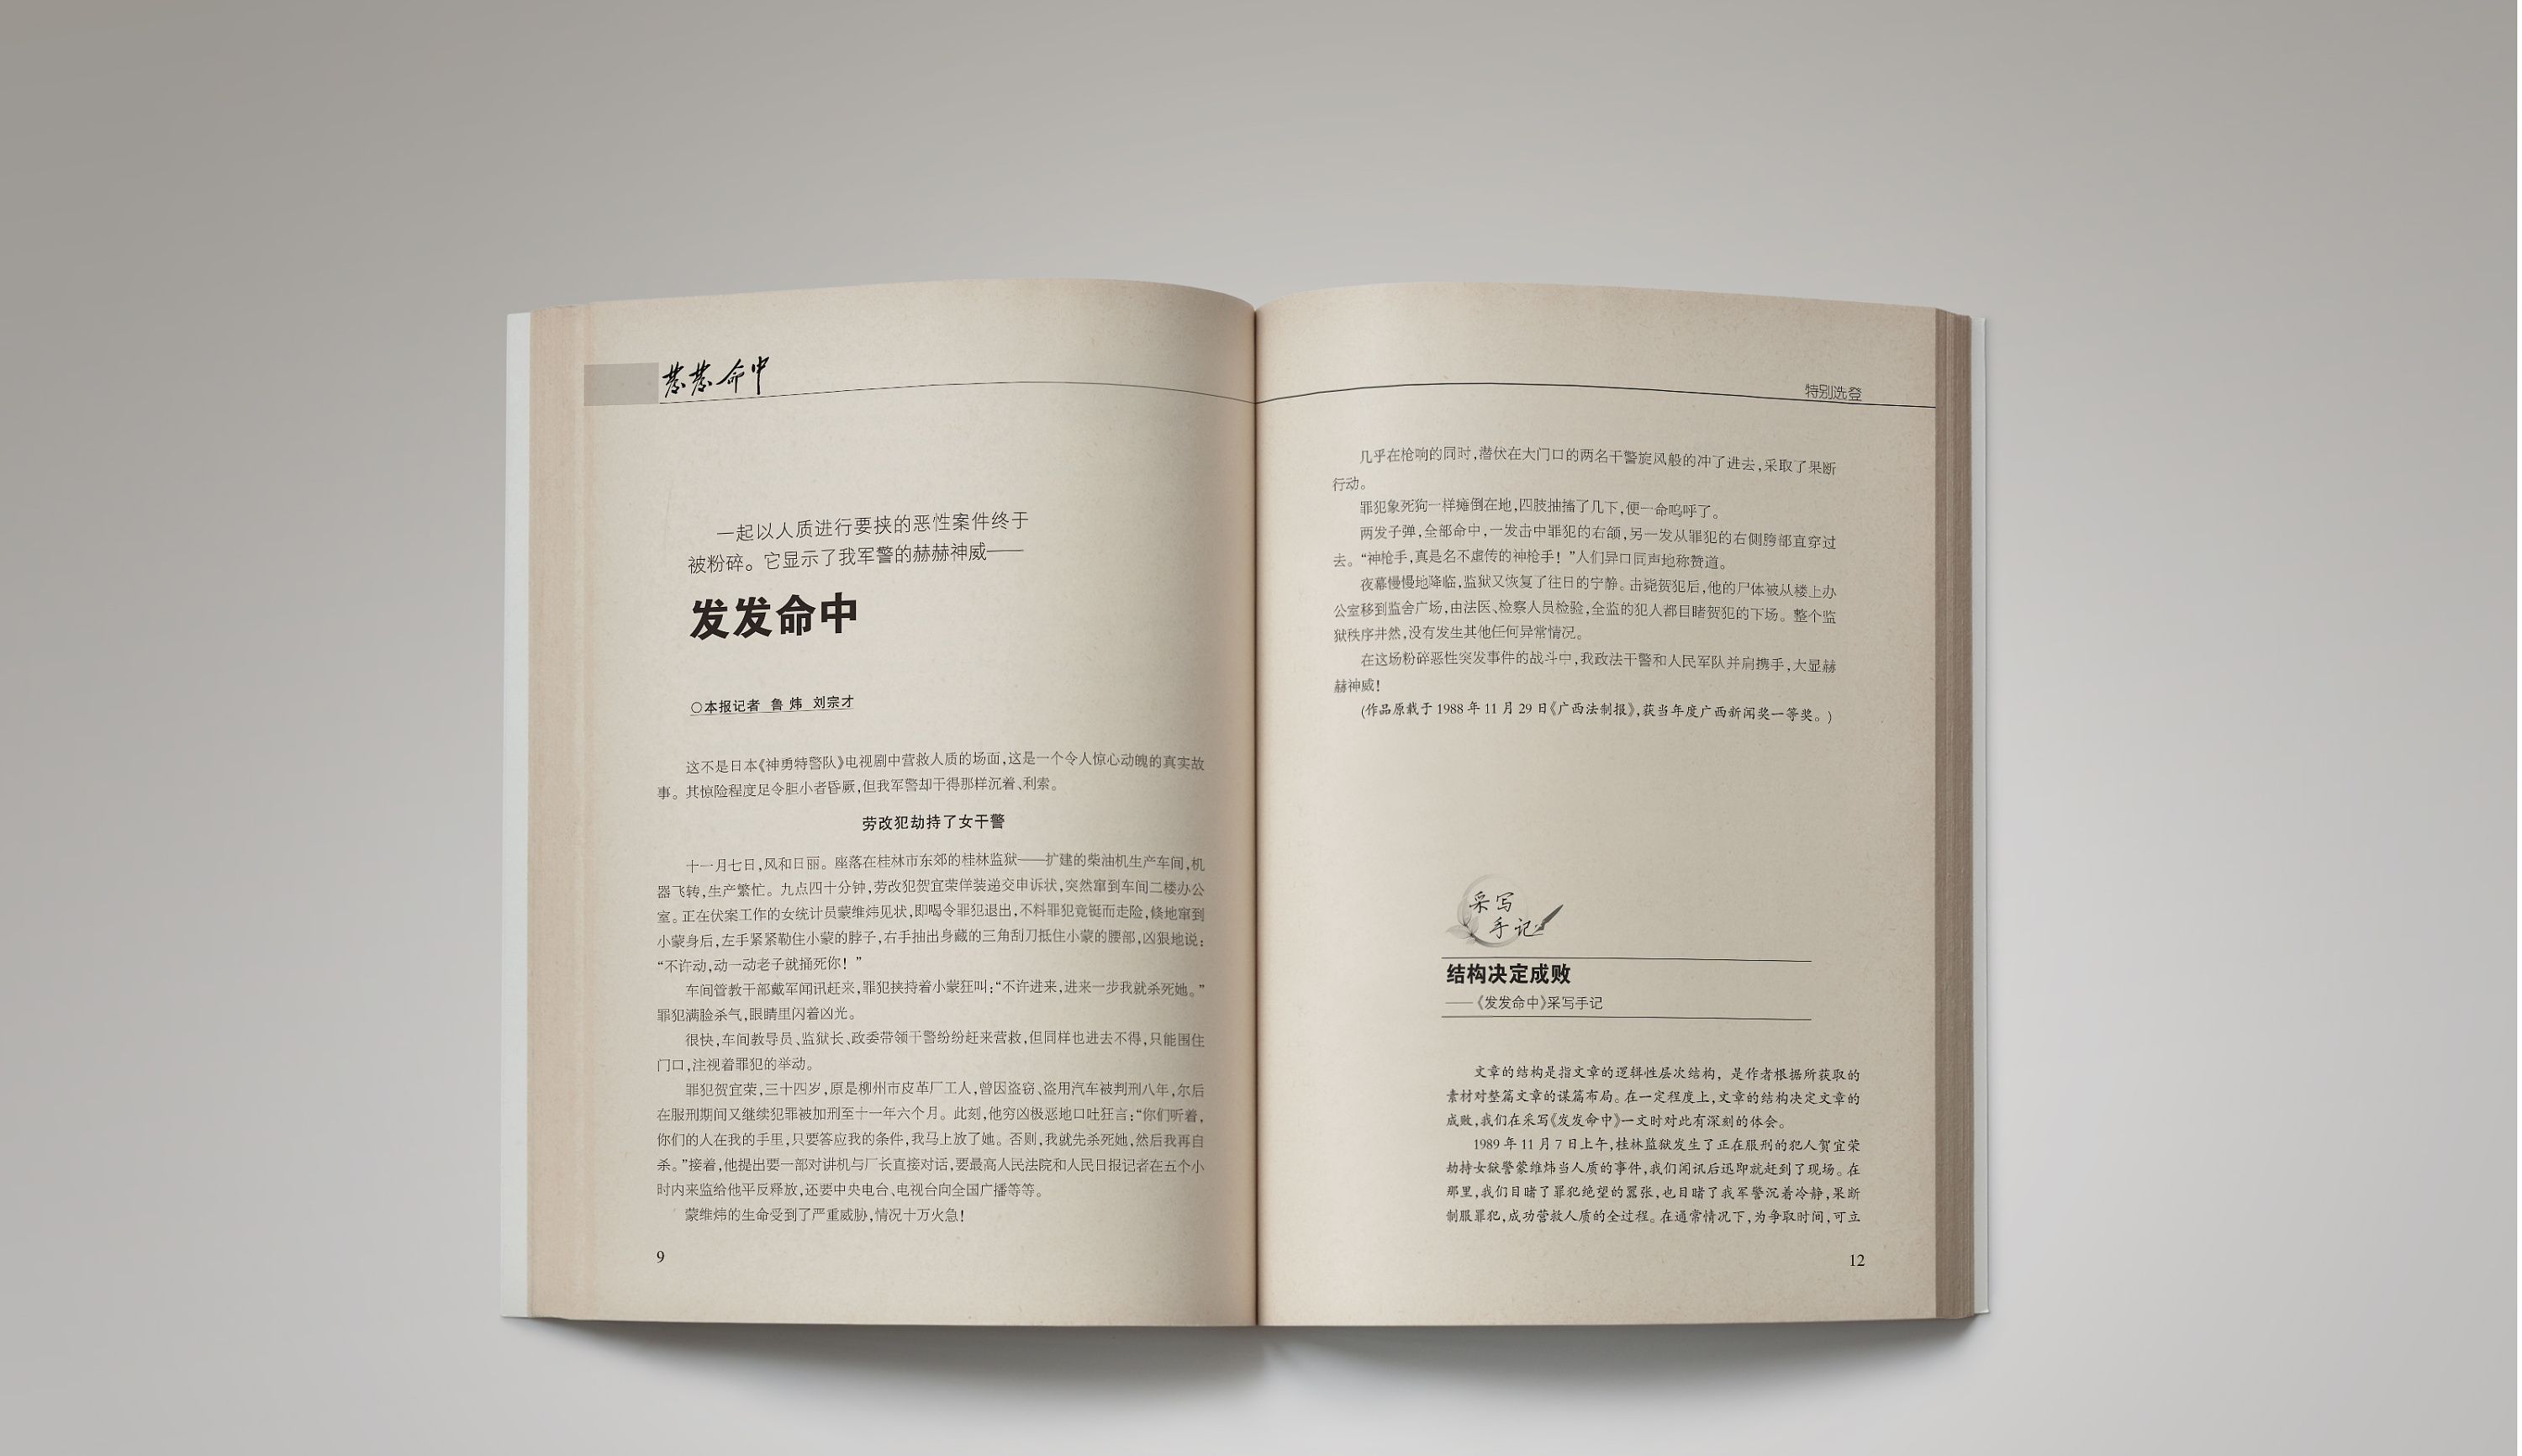book: (478, 263, 1979, 1364)
